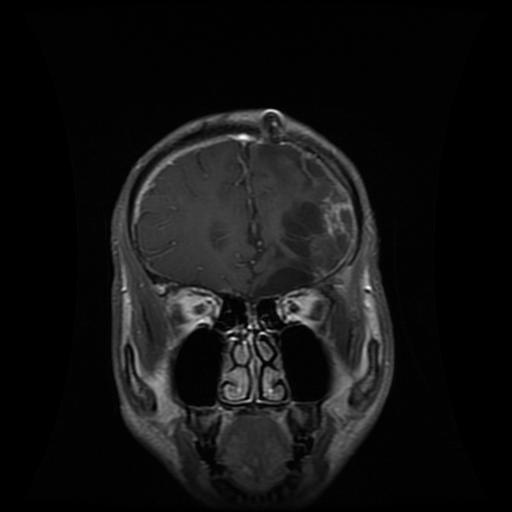Gliomia_tumour: (249, 200, 353, 295)
